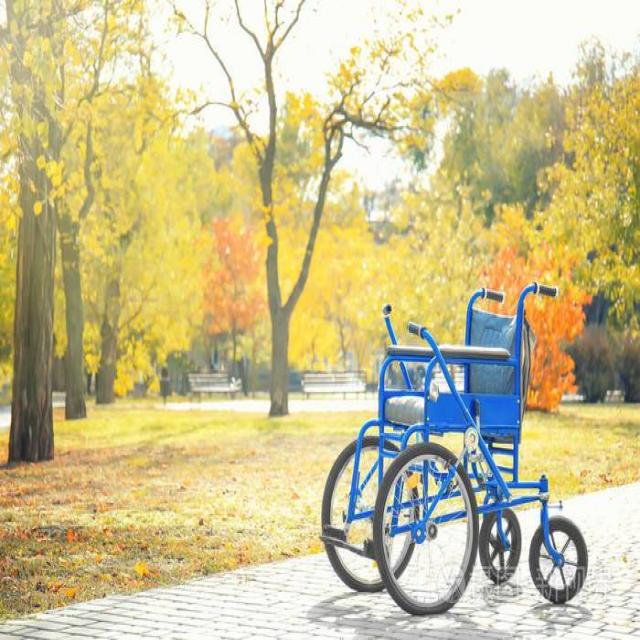wheelchairs: (315, 274, 597, 611)
